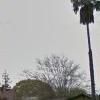Palm tree: (65, 1, 99, 82)
